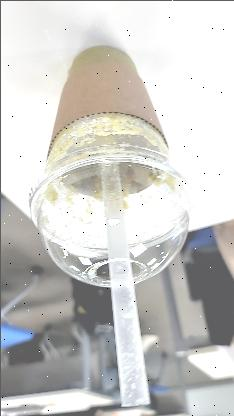Others: (26, 44, 194, 288), (26, 142, 195, 288), (88, 163, 150, 401)
